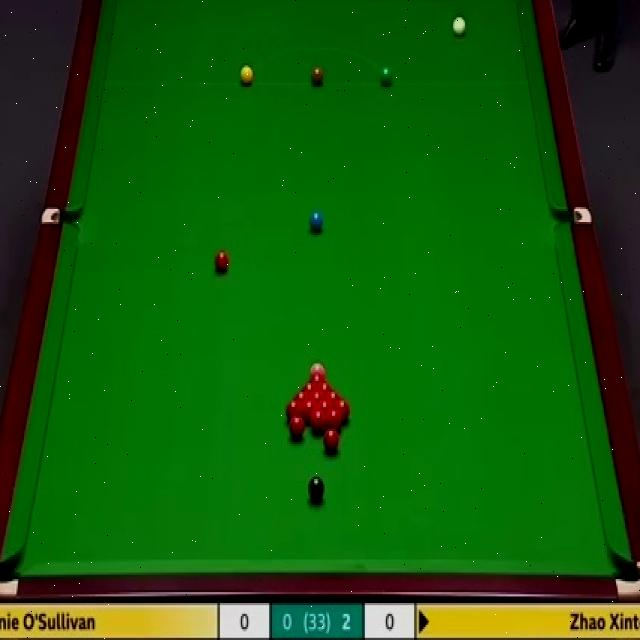black-ball: (308, 477, 324, 501)
blue-ball: (309, 209, 324, 232)
brown-ball: (310, 64, 324, 88)
green-ball: (378, 64, 393, 87)
pink-ball: (309, 362, 328, 376)
red-ball: (290, 416, 306, 439), (213, 251, 229, 274), (324, 429, 339, 453), (328, 409, 342, 434), (327, 391, 341, 414), (335, 398, 350, 419), (311, 411, 325, 433), (302, 401, 316, 422), (318, 402, 332, 423), (286, 402, 301, 421), (294, 392, 309, 401), (309, 394, 327, 400)
white-ball: (453, 15, 466, 36)
yellow-ball: (240, 66, 254, 87)
